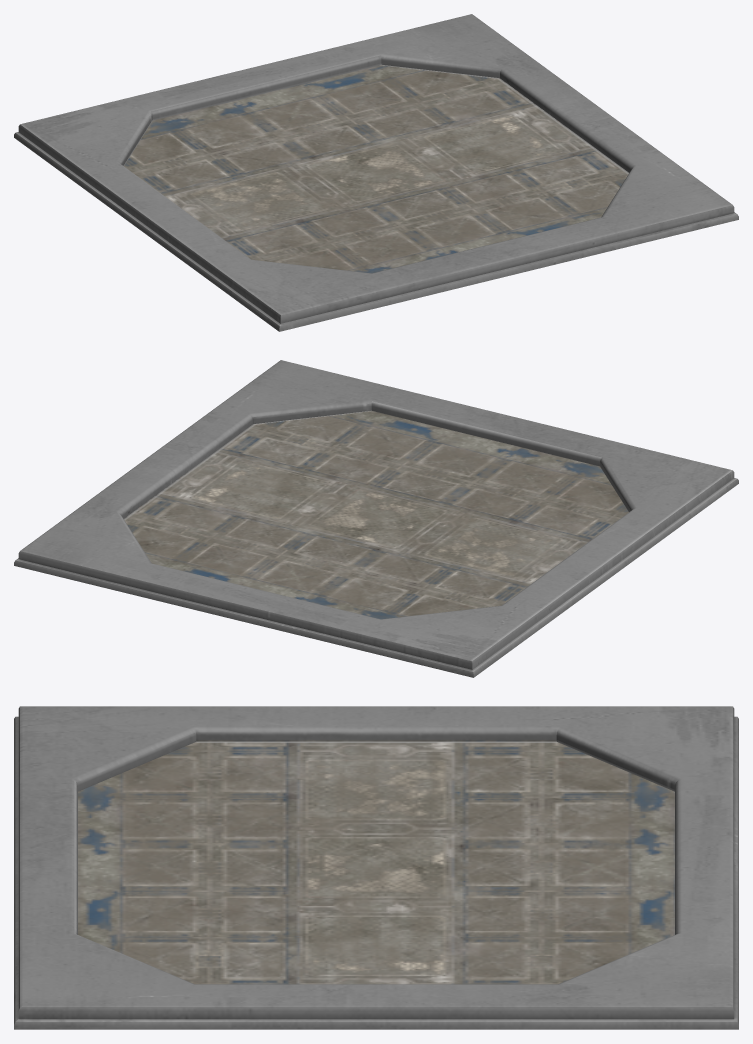
File: SM_Floor_Mats_Props_LP_pPlane2.fbx
3 renders of one model, top to bottom at view 1: azimuth 30°, elevation 25°; view 2: azimuth 150°, elevation 25°; view 3: azimuth 270°, elevation 25°, orthographic. The views are drawn at different scales.
Visible parts, largest first — view 1: SM_Floor_Mats_Props_LP_pPlane2_LOD0; view 2: SM_Floor_Mats_Props_LP_pPlane2_LOD0; view 3: SM_Floor_Mats_Props_LP_pPlane2_LOD0.
Boxes of the visible parts, x1=… form: SM_Floor_Mats_Props_LP_pPlane2_LOD0: x1=14, y1=14, x2=738, y2=331; SM_Floor_Mats_Props_LP_pPlane2_LOD0: x1=14, y1=360, x2=738, y2=677; SM_Floor_Mats_Props_LP_pPlane2_LOD0: x1=14, y1=706, x2=738, y2=1029.
Bounding box in the file's own units: 200 × 200 × 6.24.
1 material, 1 textured.
